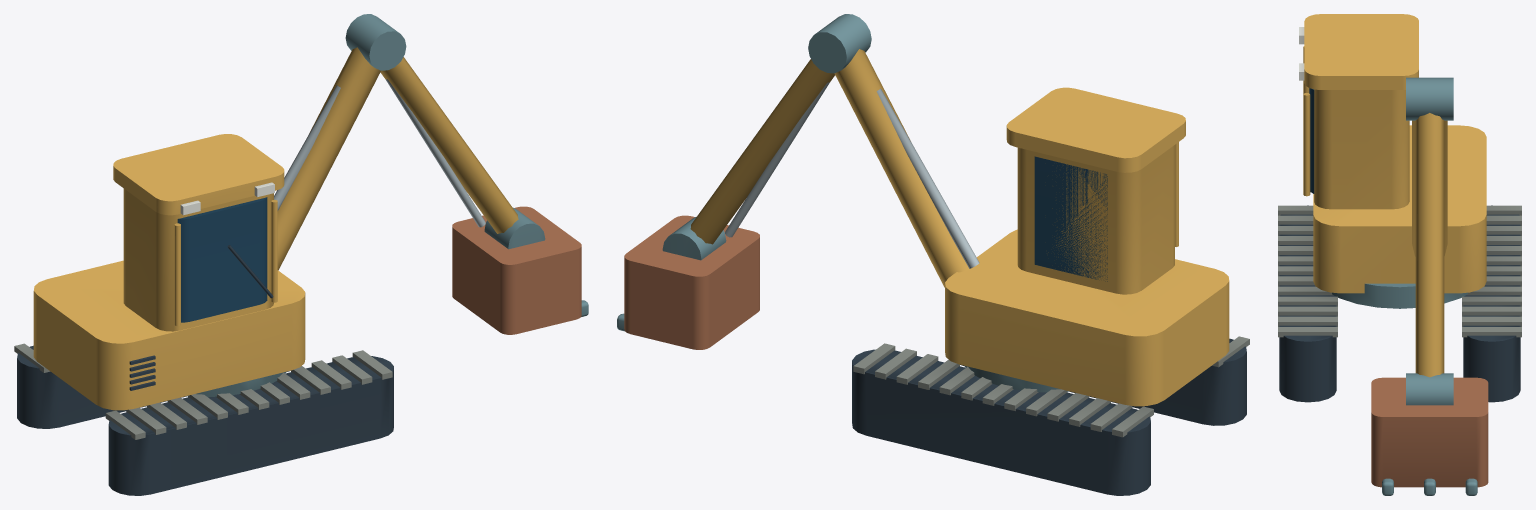
Rendered from excavator-low.glb.
3 views of the same model, side by side, from view 1: azimuth 30°, elevation 25°; view 2: azimuth 150°, elevation 25°; view 3: azimuth 270°, elevation 25° (orthographic). The views are drawn at different scales.
Visible parts, largest first — view 1: yellow excavator body, continuous rubber track, excavator bucket, cab glazing, track tread, track wheel, hydraulic ram; view 2: yellow excavator body, continuous rubber track, excavator bucket, cab glazing, track tread, track wheel, hydraulic ram; view 3: yellow excavator body, excavator bucket, track tread, continuous rubber track, track wheel, cab glazing.
Boxes of the visible parts, x1=… form: yellow excavator body: x1=33, y1=47, x2=518, y2=410; continuous rubber track: x1=17, y1=245, x2=393, y2=495; excavator bucket: x1=452, y1=206, x2=581, y2=334; cab glazing: x1=177, y1=197, x2=267, y2=322; track tread: x1=14, y1=343, x2=392, y2=439; track wheel: x1=186, y1=14, x2=588, y2=397; hydraulic ram: x1=274, y1=79, x2=485, y2=227; yellow excavator body: x1=690, y1=49, x2=1229, y2=406; continuous rubber track: x1=852, y1=338, x2=1246, y2=495; excavator bucket: x1=624, y1=215, x2=759, y2=349; cab glazing: x1=1034, y1=156, x2=1107, y2=281; track tread: x1=853, y1=336, x2=1249, y2=437; track wheel: x1=617, y1=14, x2=1069, y2=392; hydraulic ram: x1=725, y1=82, x2=979, y2=268; yellow excavator body: x1=1303, y1=14, x2=1486, y2=377; excavator bucket: x1=1371, y1=377, x2=1488, y2=487; track tread: x1=1278, y1=205, x2=1521, y2=337; continuous rubber track: x1=1279, y1=205, x2=1520, y2=402; track wheel: x1=1332, y1=77, x2=1477, y2=495; cab glazing: x1=1309, y1=88, x2=1314, y2=193.
Bounding box in the file's own units: 5 × 3.19 × 2.04.
